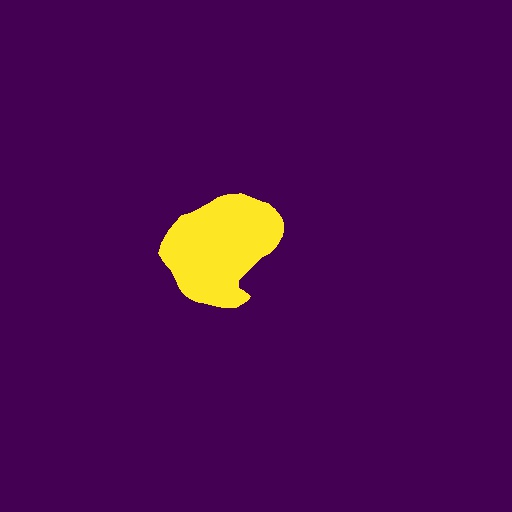Menigiomia_tumour: (158, 193, 284, 308)
